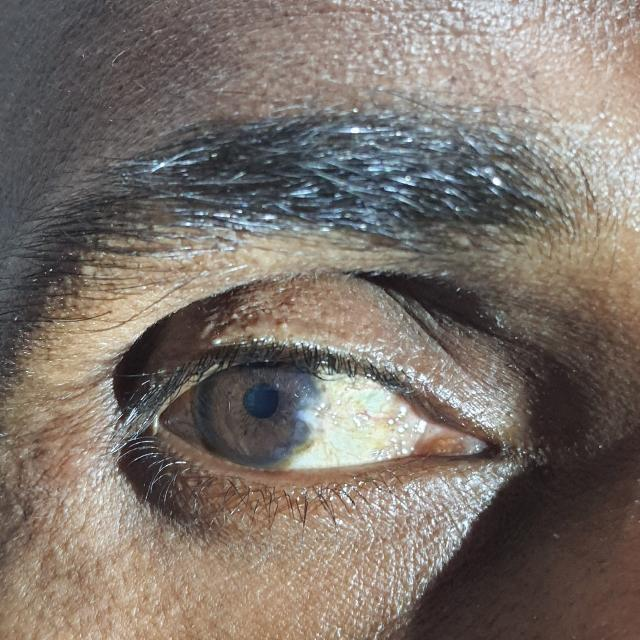eye: (190, 350, 322, 466)
